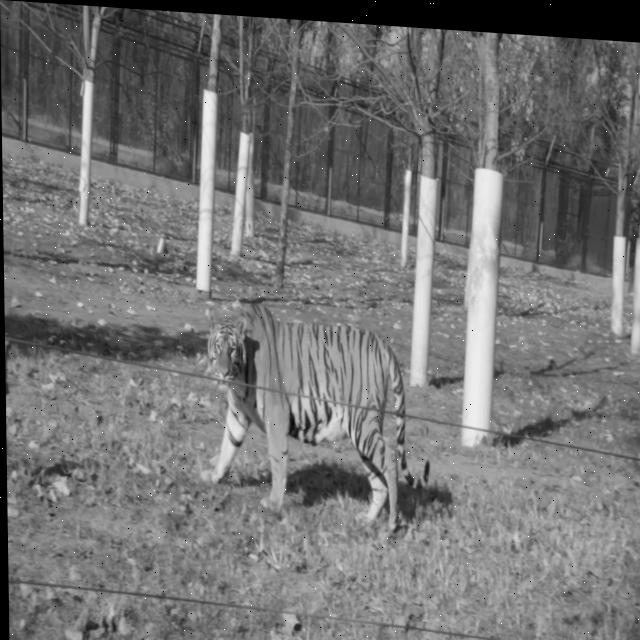Tiger: (204, 297, 432, 536)
